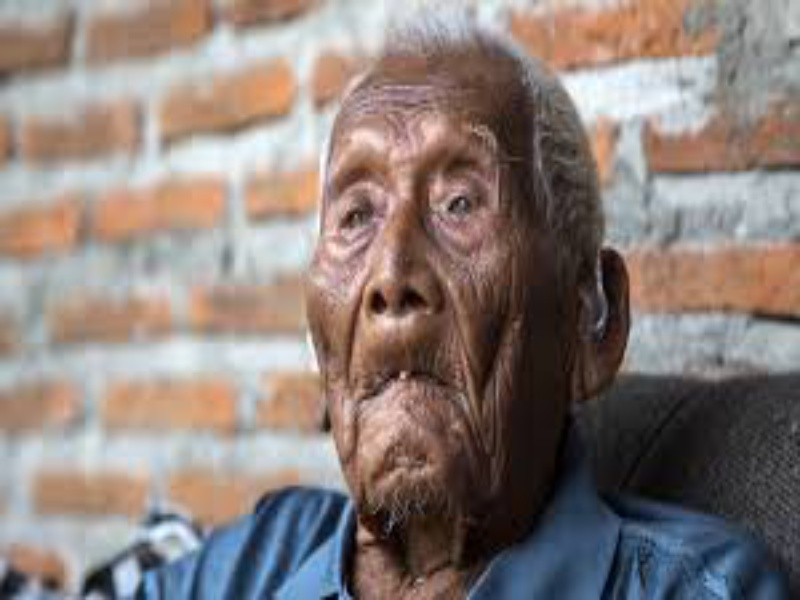TsisyArotava: (275, 29, 642, 557)
